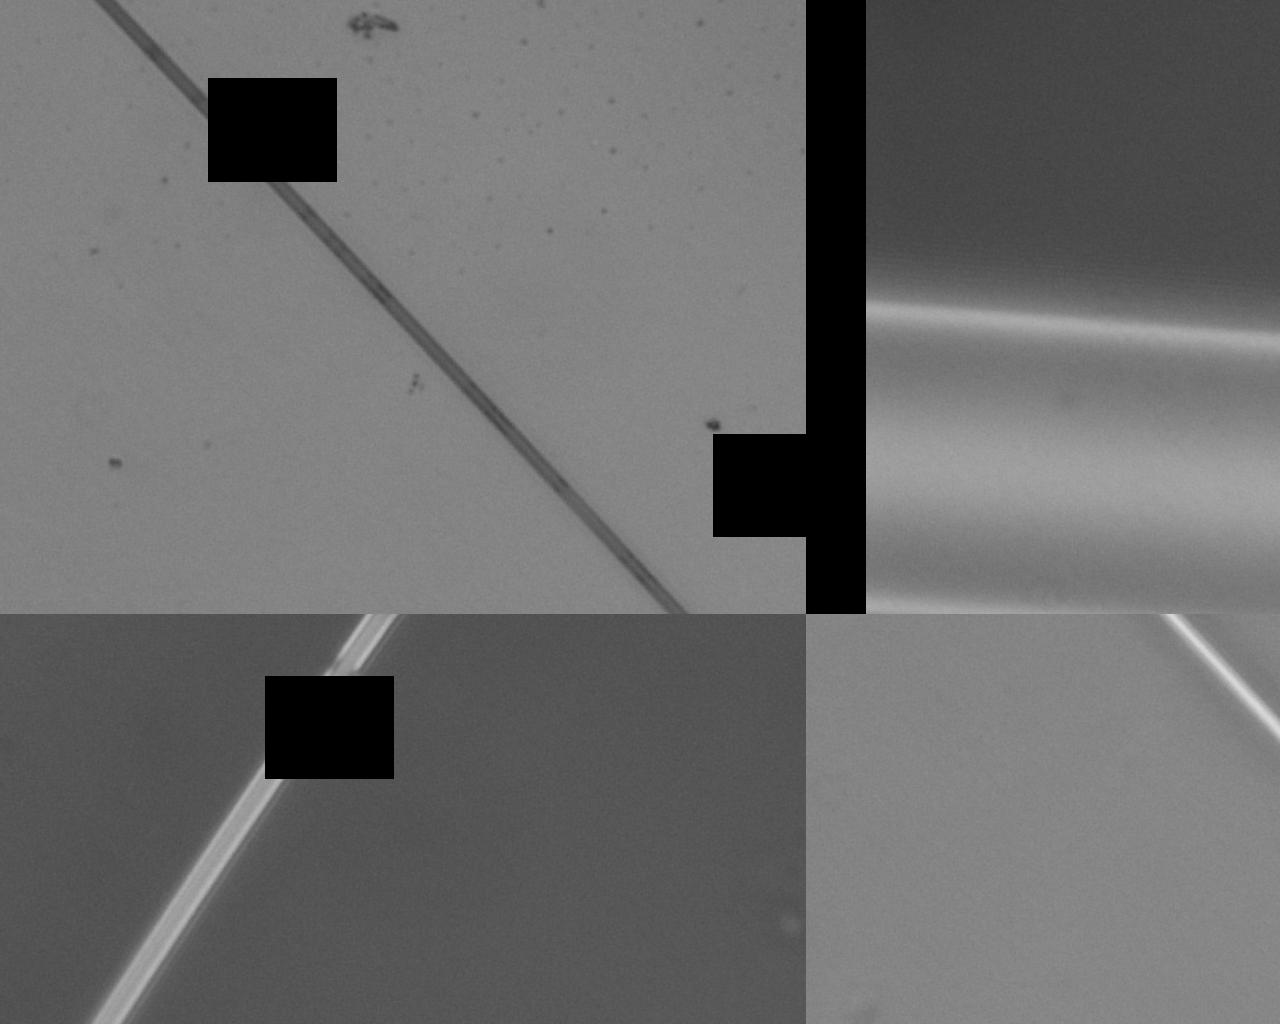fiber: (93, 0, 688, 614), (866, 303, 1280, 614), (90, 614, 402, 1024)
